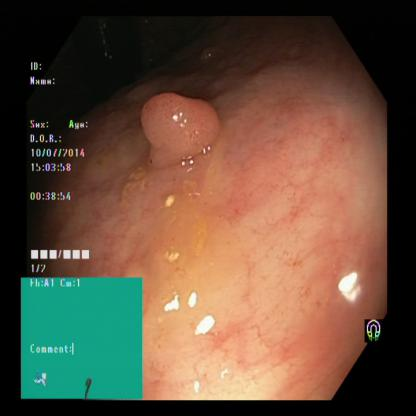Labels: (26, 60, 100, 276), (20, 279, 143, 399), (356, 310, 393, 348)
Polyps: (137, 88, 222, 162)
